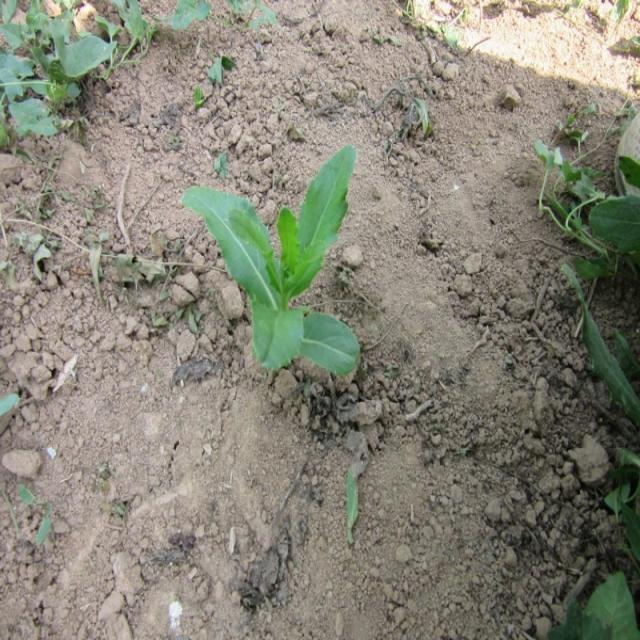cs: (176, 137, 368, 387)
